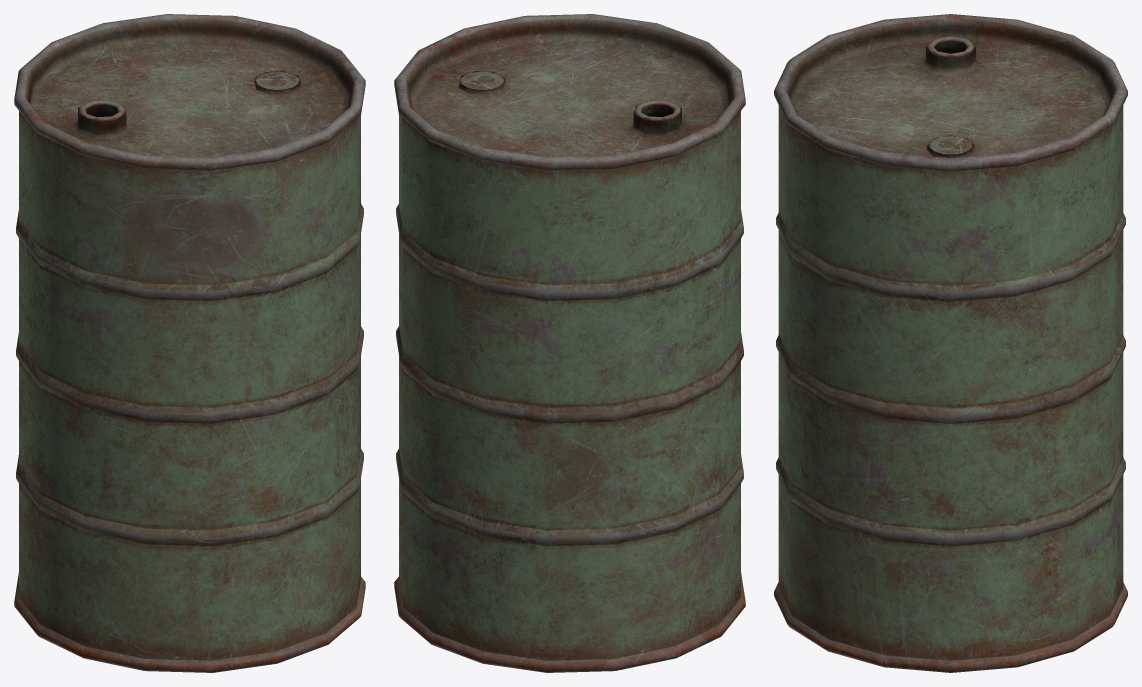
File: barrel.glb
The picture shows the model from 3 angles, left to right: view 1: azimuth 30°, elevation 25°; view 2: azimuth 150°, elevation 25°; view 3: azimuth 270°, elevation 25°; orthographic projection.
Parts seen in each view (by area): view 1: FuelBarrel_Low; view 2: FuelBarrel_Low; view 3: FuelBarrel_Low.
Boxes of the visible parts, x1,y1,x2,y2 form: FuelBarrel_Low: [14, 14, 365, 672]; FuelBarrel_Low: [394, 14, 745, 672]; FuelBarrel_Low: [774, 14, 1127, 672].
Bounding box in the file's own units: 1.15 × 1.85 × 1.15.
1 material, 1 textured.
